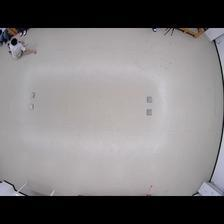fall: (5, 34, 37, 60)
